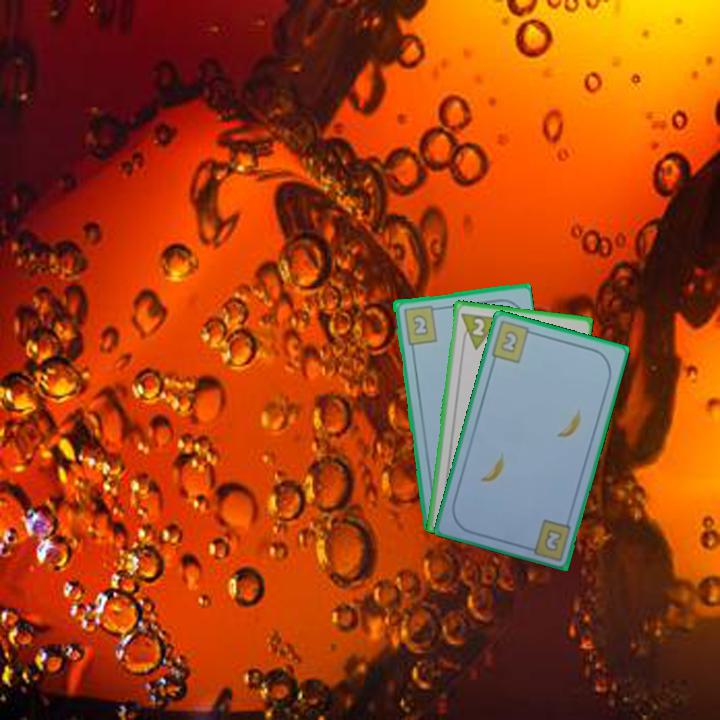2b: (487, 318, 539, 366), (400, 302, 442, 347), (540, 525, 565, 554)
2p: (457, 309, 501, 352)
